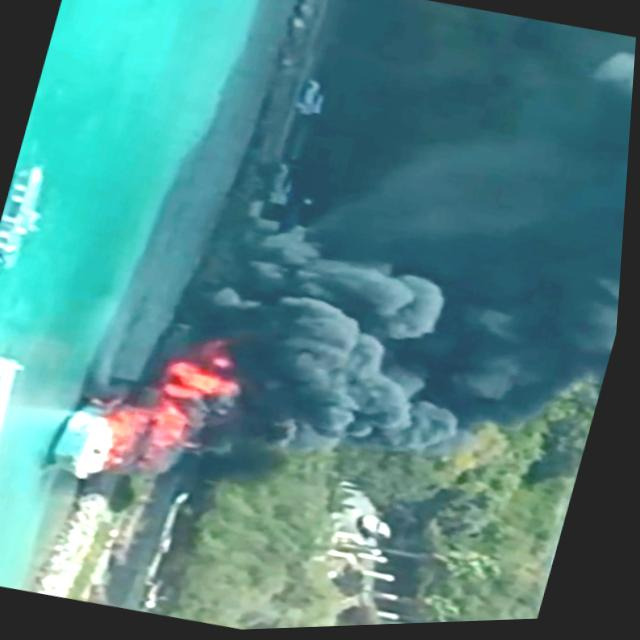smoke: (241, 220, 513, 459), (505, 43, 637, 378)
